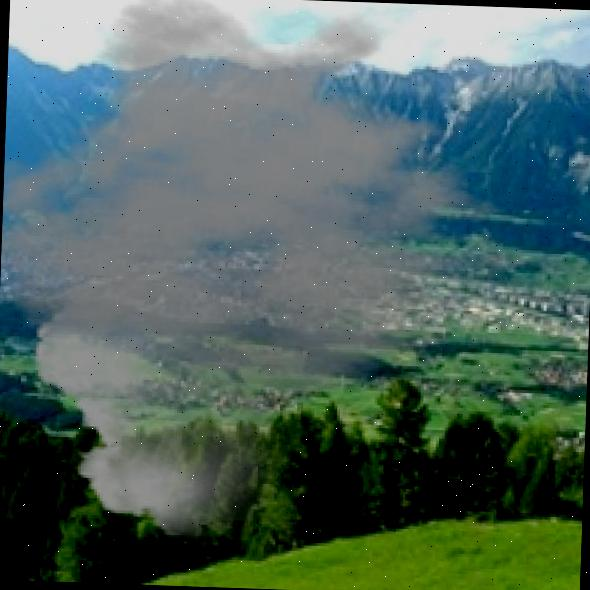smoke: (104, 86, 385, 430)
